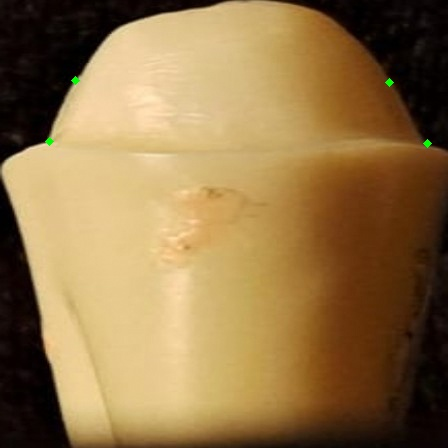coin_1: (49, 141, 69, 161)
coin_2: (75, 80, 95, 100)
coin_3: (427, 143, 447, 163)
coin_4: (389, 82, 409, 102)
